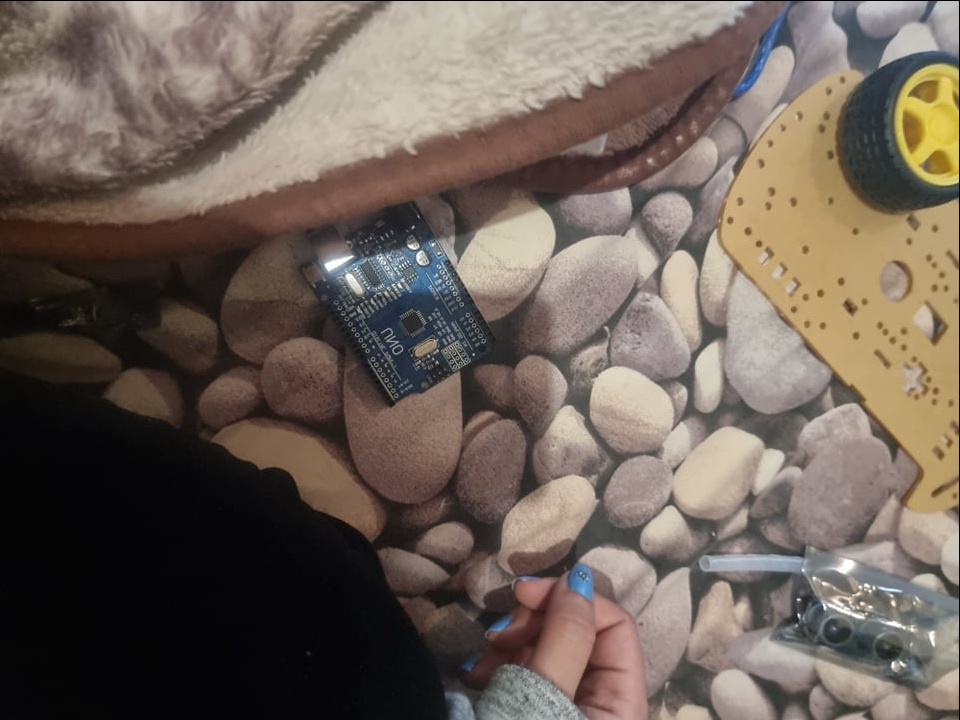SENSOR: (804, 601, 922, 666)
UNO R3: (301, 201, 496, 404)
